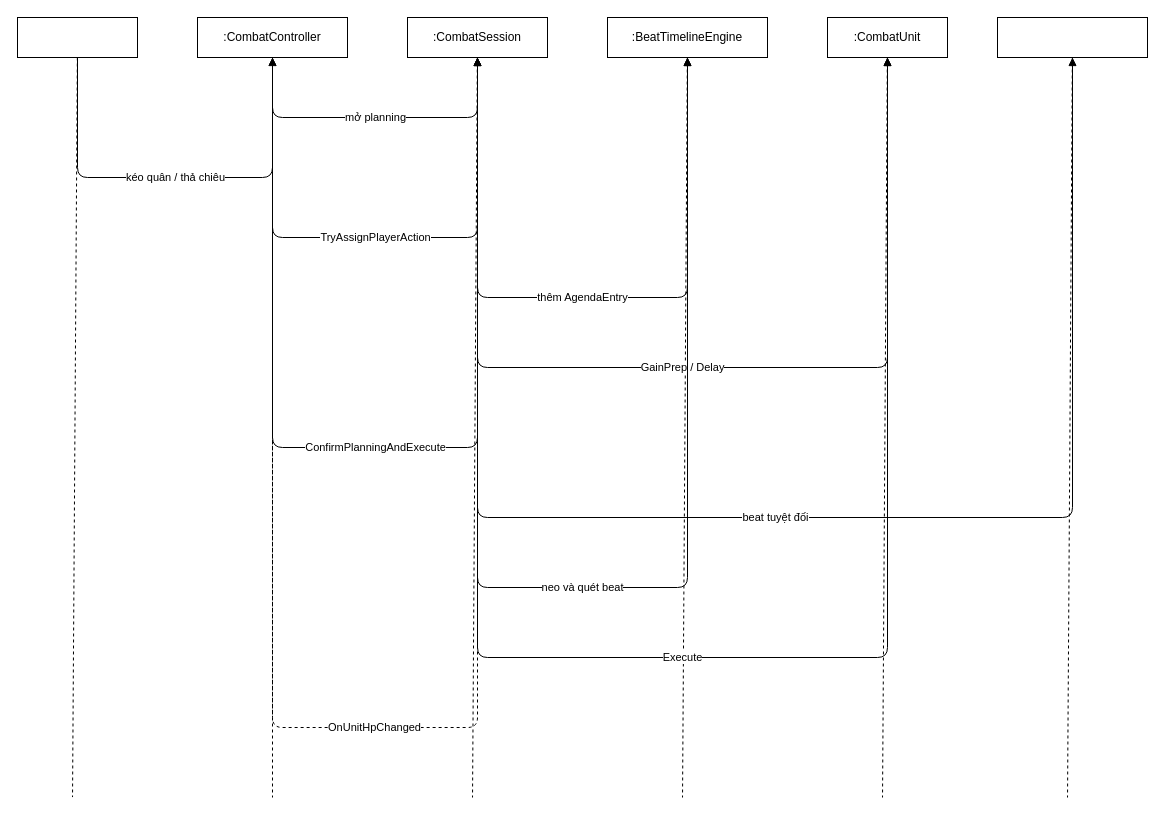
This 1165x825 diagram has some shape labels left out. Each missing label, with the centre of its shape:
:ICombatMusicSync: point (1072, 37)
:Người chơi: point (77, 37)
